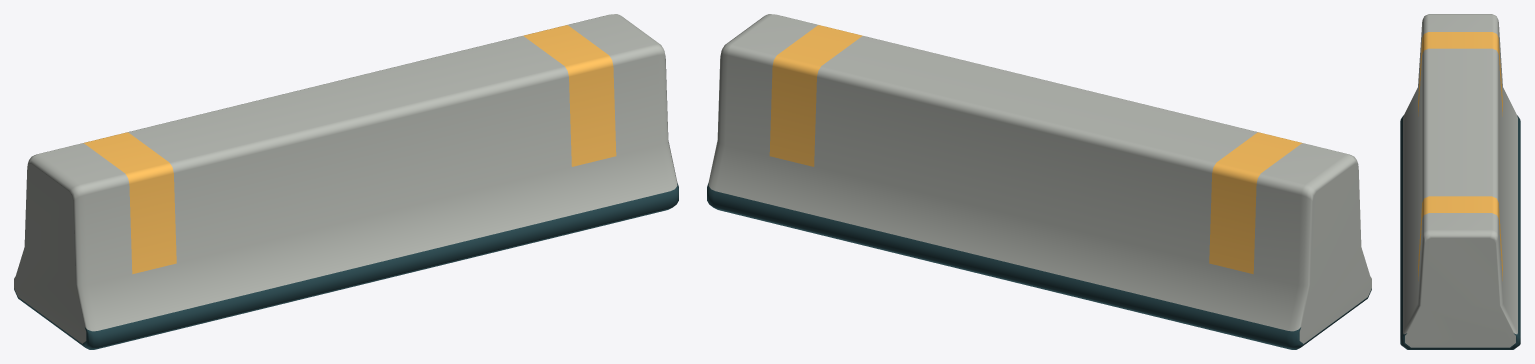
File: city_barriers_03.glb
3 renders of one model, left to right at view 1: azimuth 30°, elevation 25°; view 2: azimuth 150°, elevation 25°; view 3: azimuth 270°, elevation 25°, orthographic. The views are drawn at different scales.
Parts seen in each view (by area): view 1: CityBarriers03_Mesh; view 2: CityBarriers03_Mesh; view 3: CityBarriers03_Mesh.
Part boxes in pixels (x1,y1,x2,y2): CityBarriers03_Mesh: [14, 14, 678, 349]; CityBarriers03_Mesh: [707, 14, 1371, 349]; CityBarriers03_Mesh: [1400, 14, 1520, 349].
Bounding box in the file's own units: 2.4 × 0.6 × 0.55.
